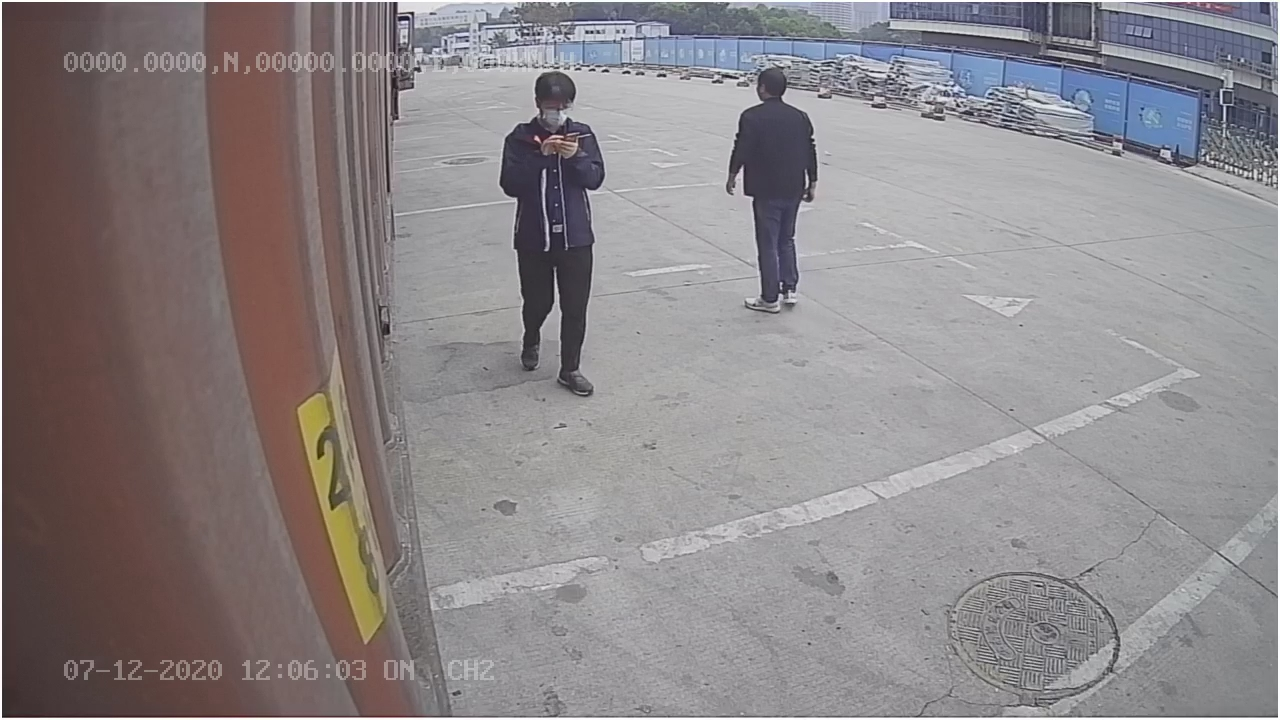person: (493, 68, 603, 395), (723, 66, 821, 317)
